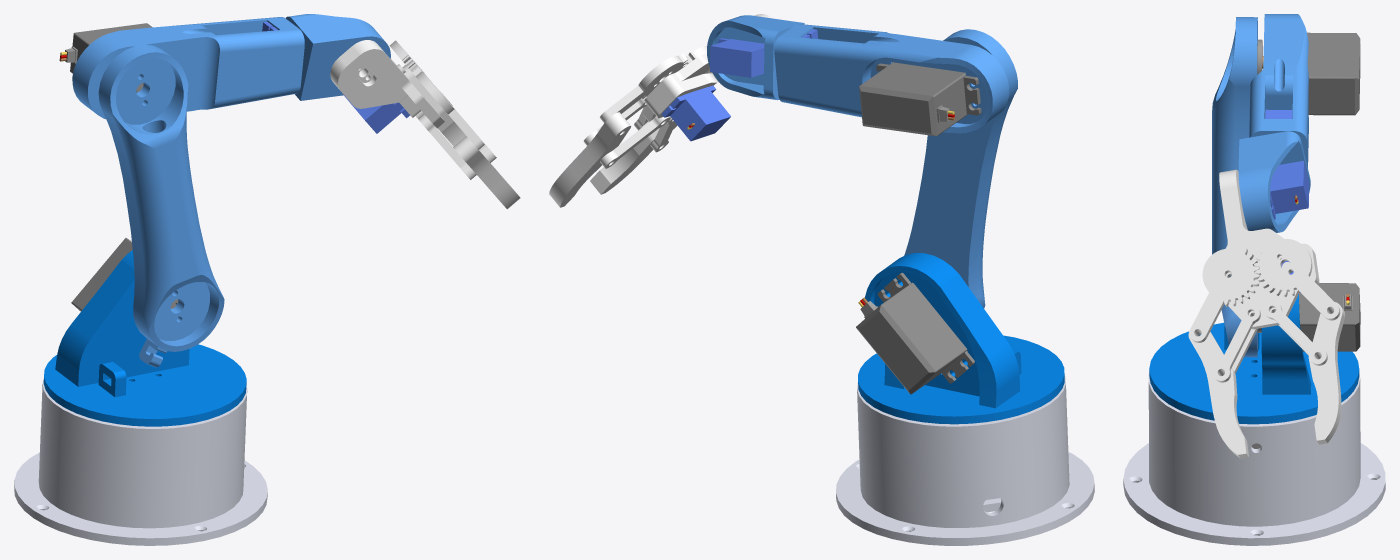
File: RARM.glb
3 views of the same model, side by side, from view 1: azimuth 30°, elevation 25°; view 2: azimuth 150°, elevation 25°; view 3: azimuth 270°, elevation 25° (orthographic). The views are drawn at different scales.
Visible parts, largest first — view 1: Robotic Arm 3D Model; view 2: Robotic Arm 3D Model; view 3: Robotic Arm 3D Model.
Boxes of the visible parts, x1,y1,x2,y2 form: Robotic Arm 3D Model: (14,14,520,545); Robotic Arm 3D Model: (549,14,1094,545); Robotic Arm 3D Model: (1123,14,1385,545).
Size of the model in its own units: 26.69 by 23.87 by 12.11.
